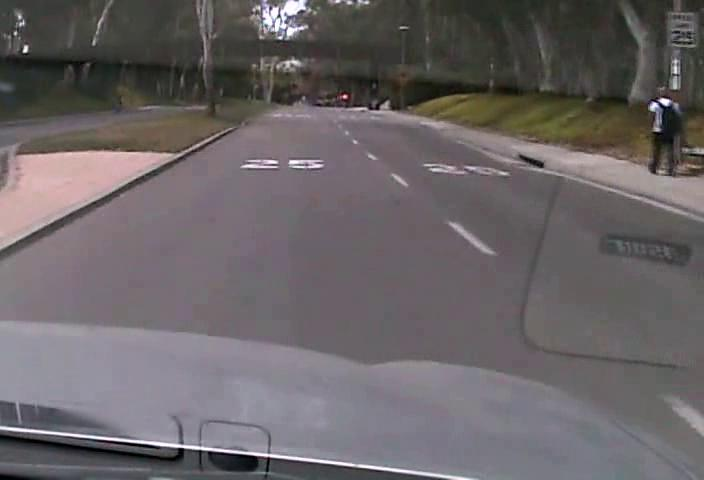speedLimit25: (668, 9, 699, 48)
